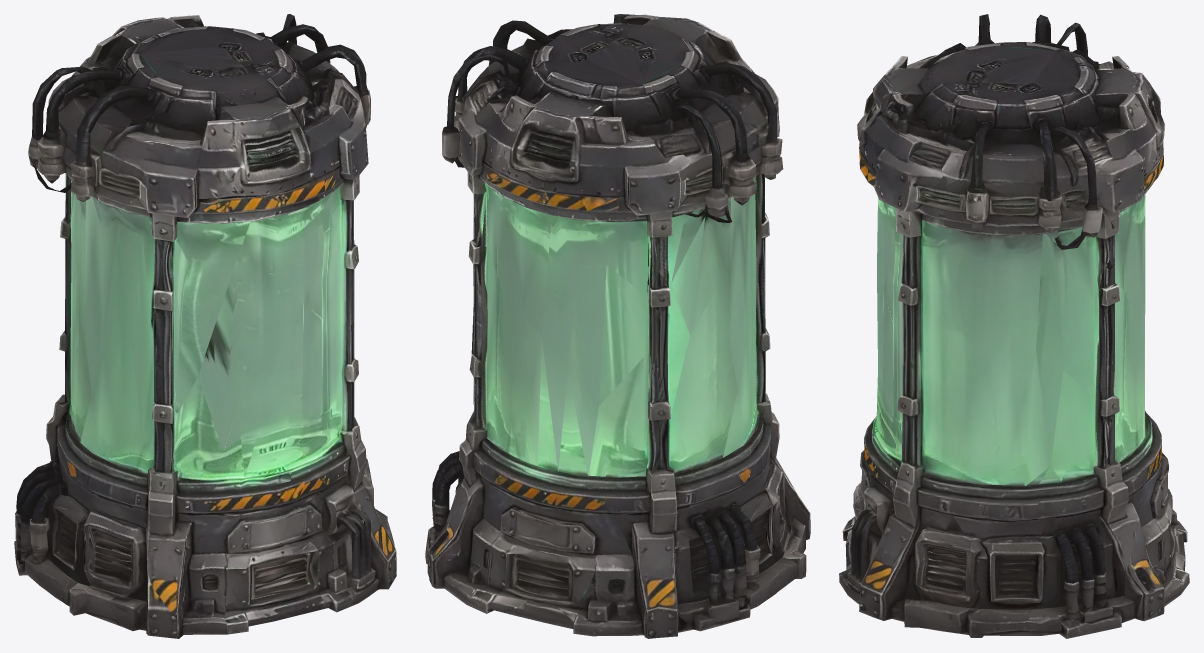
The picture shows the model from 3 angles, left to right: view 1: azimuth 30°, elevation 25°; view 2: azimuth 150°, elevation 25°; view 3: azimuth 270°, elevation 25°; orthographic projection. The views are drawn at different scales.
Parts seen in each view (by area): view 1: model; view 2: model; view 3: model.
Boxes of the visible parts, left/top/right/bottom form: model: left=14, top=14, right=396, bottom=638; model: left=425, top=14, right=810, bottom=638; model: left=839, top=14, right=1189, bottom=638.
Bounding box in the file's own units: 1.26 × 1.9 × 1.21.
Materials: 1 (1 with a texture image).
